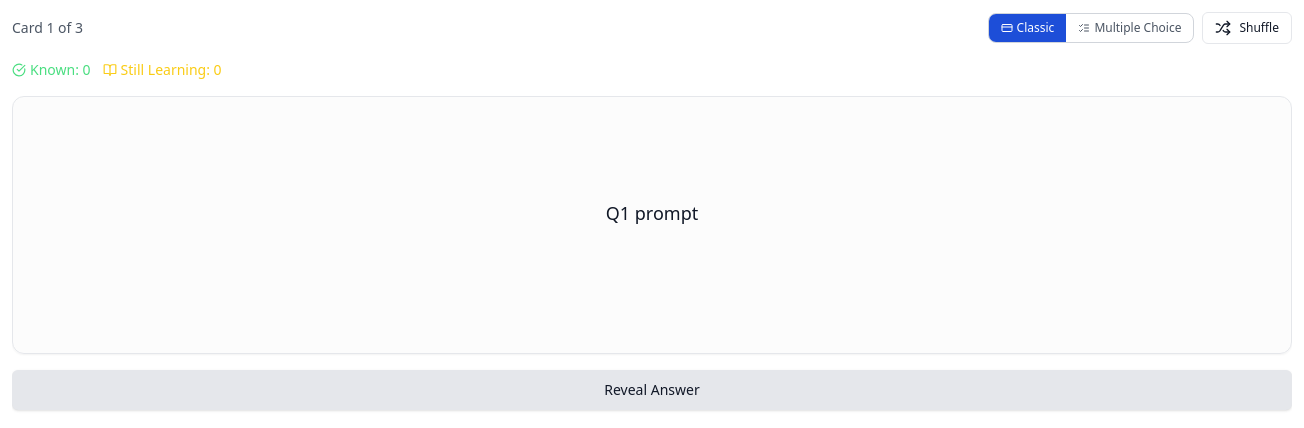
Test case: B1: FlashcardViewer in a filtered view › a parent re-render with an equal new array keeps the current card
The image size is (1304, 428).
Later steps or results of the test are not shown.
Click the button "Reveal Answer".
click(652, 390)  # box top-left (12, 370), bottom-right (1292, 410)
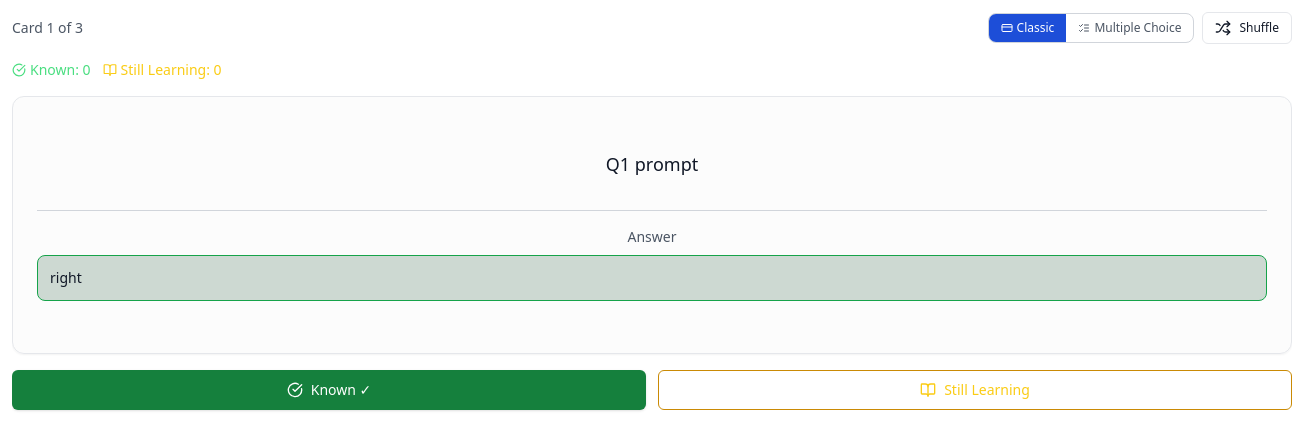
Click the button with aria-label "Mark card as still learning".
click(975, 390)  # box top-left (658, 370), bottom-right (1292, 410)
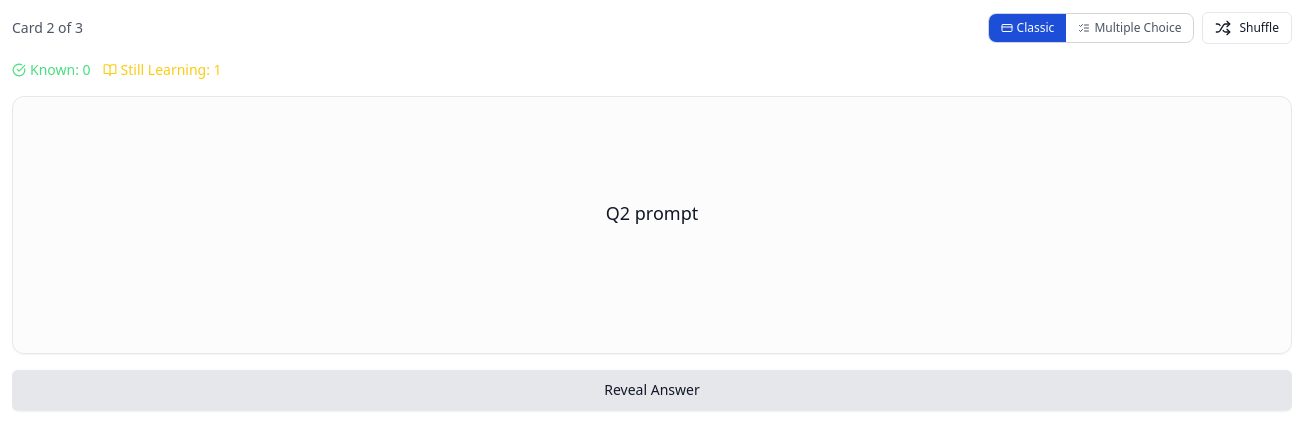
Check: the text "Q2 prompt" is shown, box top-left (606, 199), bottom-right (698, 227)
